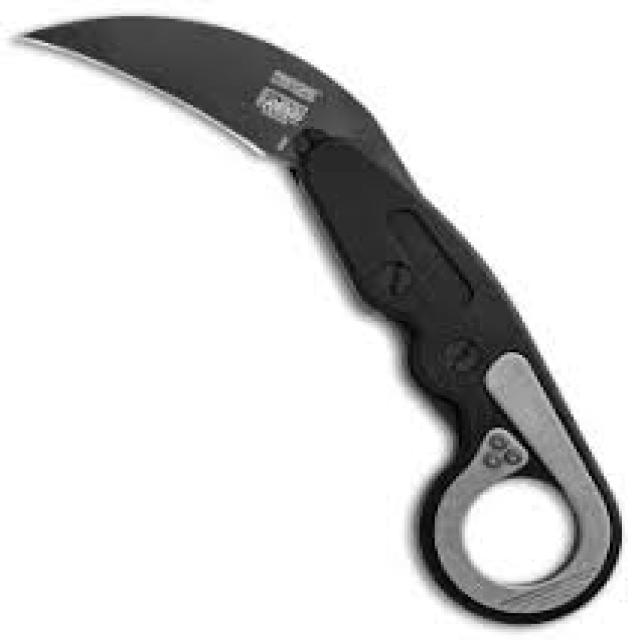knives: (6, 6, 628, 630)
